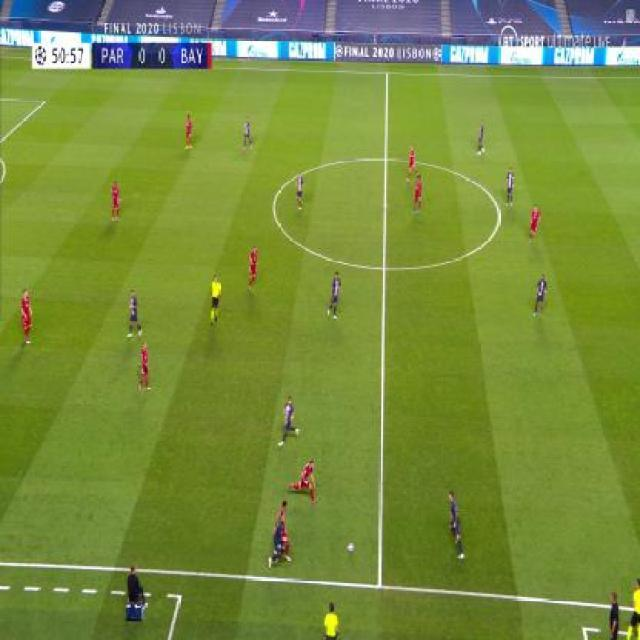ball: (348, 541, 354, 552)
player: (269, 501, 291, 569), (446, 490, 466, 559), (125, 563, 148, 622), (289, 459, 317, 504), (278, 396, 300, 445), (137, 340, 153, 393), (626, 577, 639, 639), (19, 288, 33, 345), (326, 271, 342, 319), (321, 601, 340, 640), (532, 272, 548, 317), (127, 289, 141, 337), (209, 275, 222, 324), (608, 592, 621, 640), (247, 244, 260, 290), (410, 173, 423, 216), (528, 204, 541, 243), (405, 143, 418, 182), (241, 116, 254, 153), (110, 179, 121, 222), (505, 167, 516, 209), (475, 119, 486, 156), (296, 171, 305, 211), (184, 112, 193, 151)
